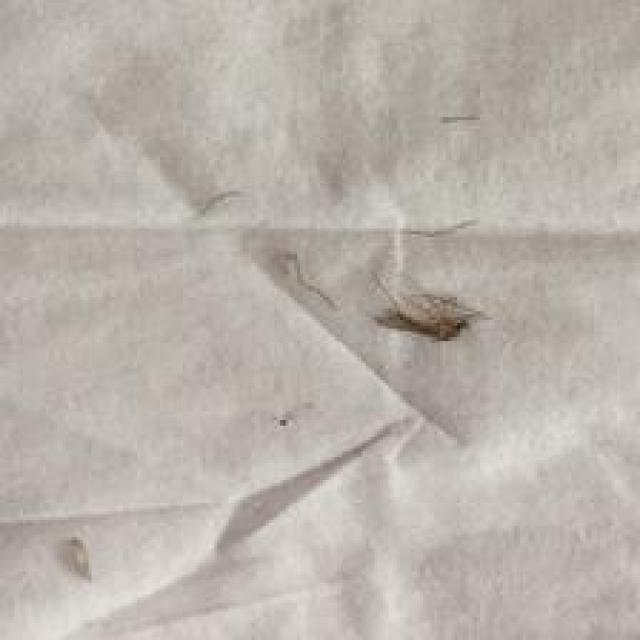Culex: (368, 217, 492, 343)
